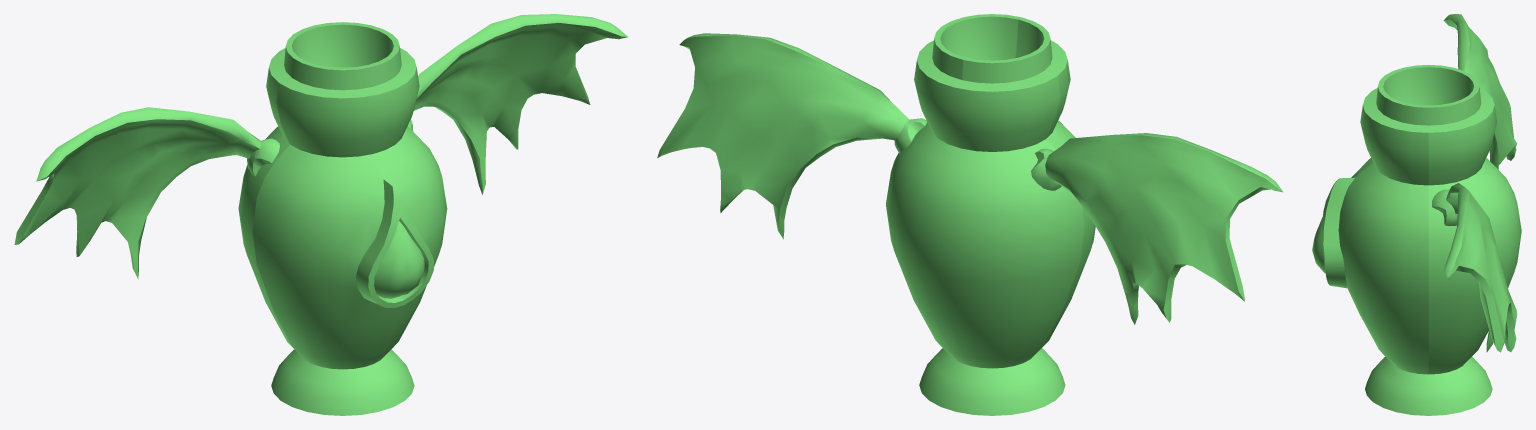
File: SM_Gargoyle_Urn_Body_1.fbx
3 views of the same model, side by side, from view 1: azimuth 30°, elevation 25°; view 2: azimuth 150°, elevation 25°; view 3: azimuth 270°, elevation 25° (orthographic). The views are drawn at different scales.
Visible parts, largest first — view 1: SM_Gargoyle_Urn_Body_1; view 2: SM_Gargoyle_Urn_Body_1; view 3: SM_Gargoyle_Urn_Body_1.
Part boxes in pixels (left/top/right/bottom): SM_Gargoyle_Urn_Body_1: left=14, top=14, right=627, bottom=415; SM_Gargoyle_Urn_Body_1: left=657, top=14, right=1283, bottom=415; SM_Gargoyle_Urn_Body_1: left=1312, top=14, right=1521, bottom=415.
Size of the model in its own units: 0.8091 by 0.4431 by 0.2782.
